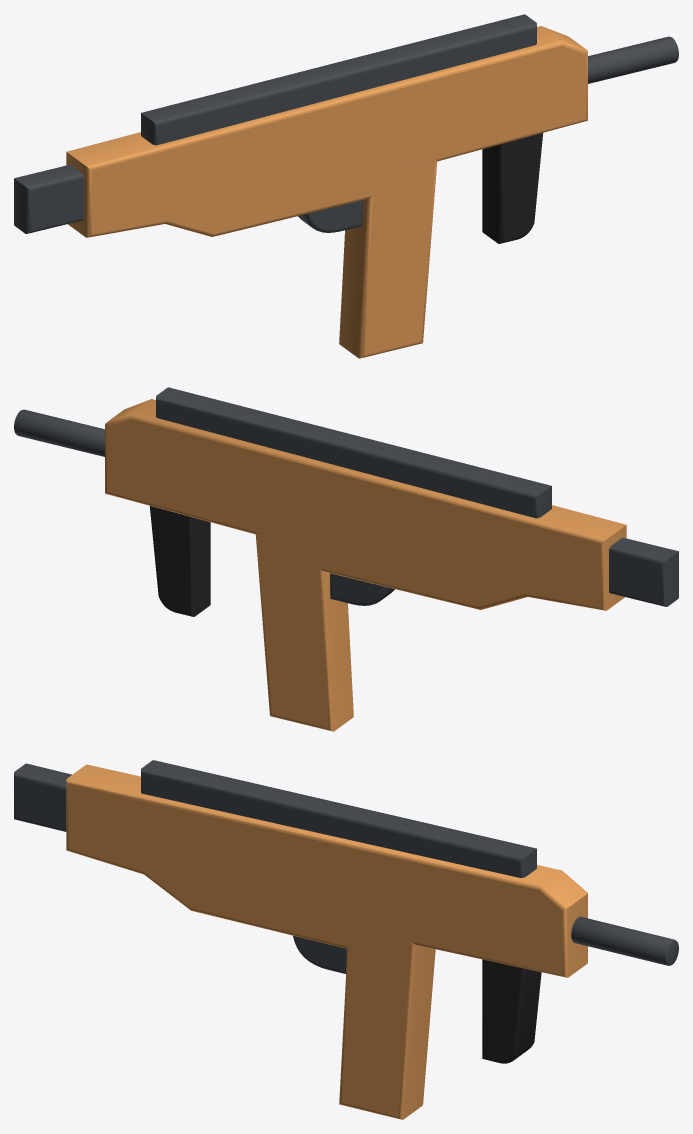
The picture shows the model from 3 angles, top to bottom: view 1: azimuth 30°, elevation 25°; view 2: azimuth 150°, elevation 25°; view 3: azimuth 330°, elevation 25°; orthographic projection.
Parts seen in each view (by area): view 1: paint_1, paint_3, metal_2, poly_4, metal_0, metal_5, metal_6; view 2: paint_1, paint_3, metal_2, poly_4, metal_0, metal_5, metal_6; view 3: paint_1, paint_3, metal_2, poly_4, metal_0, metal_5, metal_6.
Part boxes in pixels (box(x1,y1,x2,y2)): paint_1: box(66, 26, 587, 237); paint_3: box(339, 160, 437, 358); metal_2: box(141, 14, 536, 145); poly_4: box(482, 133, 543, 243); metal_0: box(14, 164, 83, 233); metal_5: box(588, 36, 678, 83); metal_6: box(298, 200, 362, 232); paint_1: box(105, 399, 626, 610); paint_3: box(255, 533, 353, 731); metal_2: box(156, 387, 551, 518); poly_4: box(149, 506, 210, 616); metal_0: box(609, 537, 678, 606); metal_5: box(14, 409, 104, 456); metal_6: box(330, 573, 394, 605); paint_1: box(66, 764, 587, 977); paint_3: box(339, 929, 435, 1119); metal_2: box(141, 760, 536, 877); poly_4: box(482, 959, 541, 1063); metal_0: box(14, 763, 71, 831); metal_5: box(571, 916, 678, 965); metal_6: box(293, 935, 347, 973).
Bounding box in the file's own units: 278 × 117 × 17.16.
